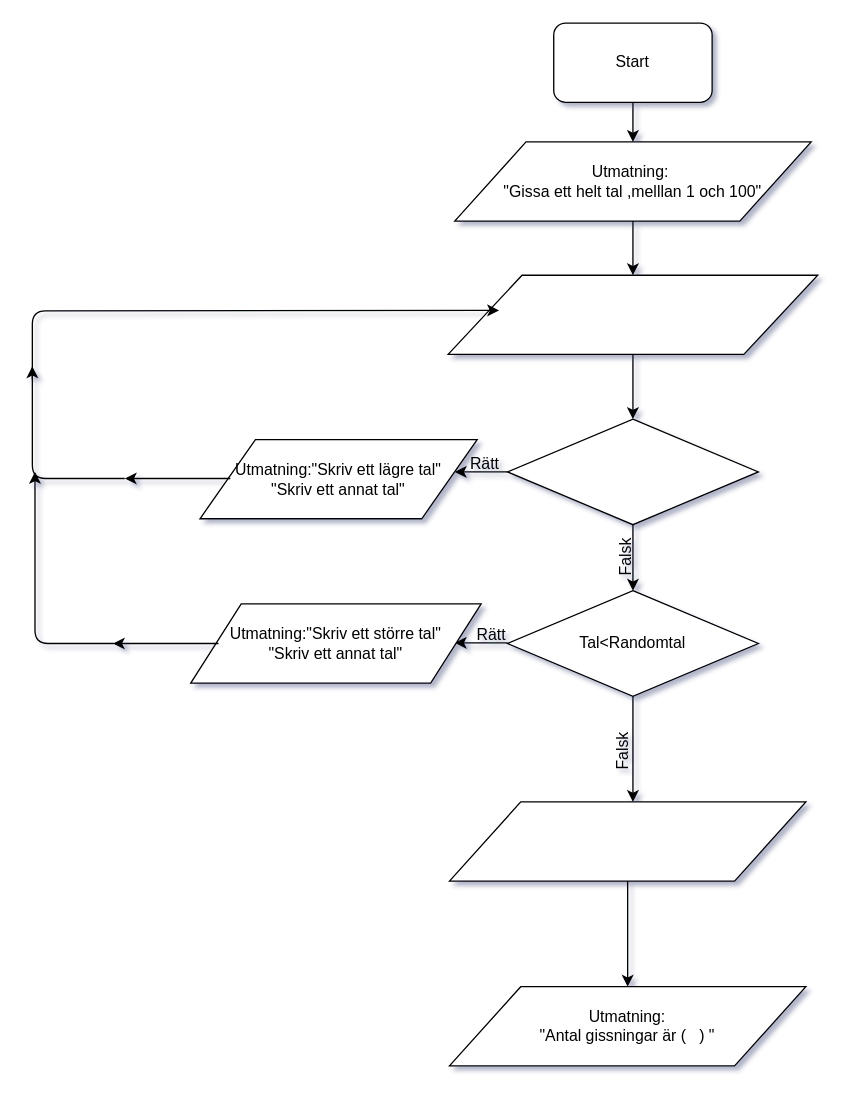
Image size: 849x1097. Some labels were removed from this diagram. Each missing label, with the centre of its shape:
Inmatning: "Tal mellan 1 och 100": (x=632, y=314)
Tal>Randomtal: (x=632, y=471)
Utmatning: "Talet är rätt: (x=627, y=841)
